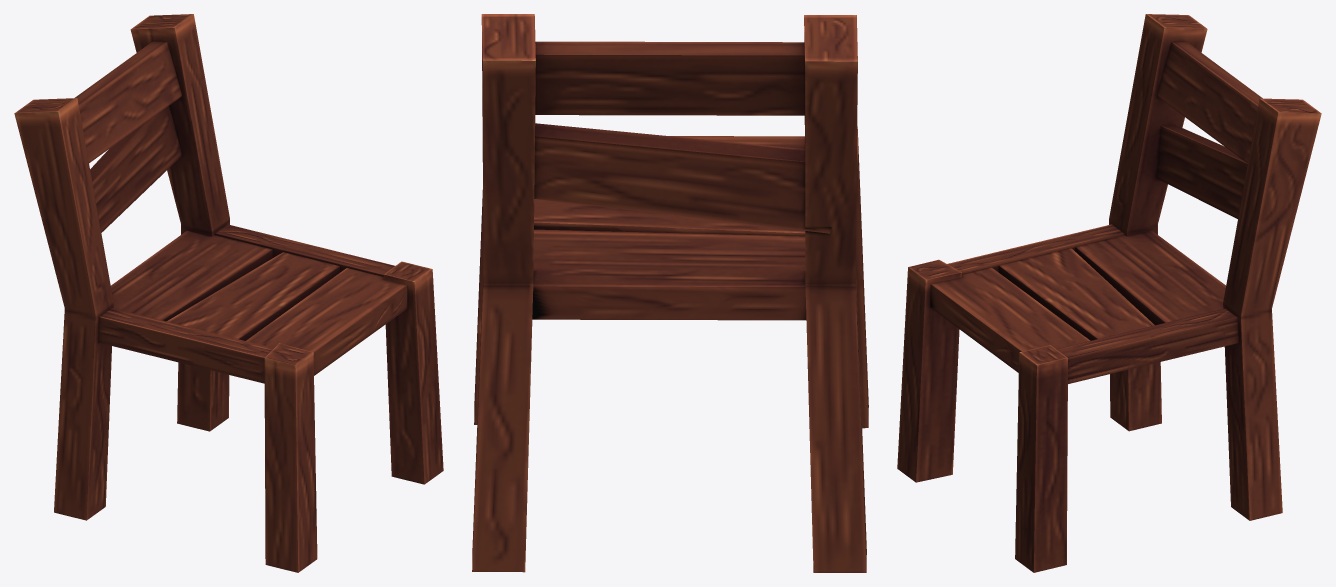
Rendered from Chair1.fbx.
3 views of the same model, side by side, from view 1: azimuth 30°, elevation 25°; view 2: azimuth 150°, elevation 25°; view 3: azimuth 270°, elevation 25° (orthographic). The views are drawn at different scales.
Parts seen in each view (by area): view 1: Chair MODULO 02; view 2: Chair MODULO 02; view 3: Chair MODULO 02.
Part boxes in pixels (bbox=[...]): Chair MODULO 02: bbox=[14, 14, 443, 572]; Chair MODULO 02: bbox=[472, 14, 868, 572]; Chair MODULO 02: bbox=[897, 14, 1321, 572].
Size of the model in its own units: 129 by 140 by 135.
